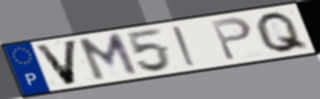5: (122, 26, 175, 73)
I: (170, 24, 200, 68)
M: (75, 31, 142, 83)
P: (208, 15, 254, 63)
Q: (253, 10, 312, 55)
V: (33, 38, 81, 87)
